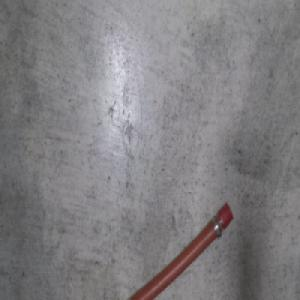Hose: (114, 199, 234, 300)
